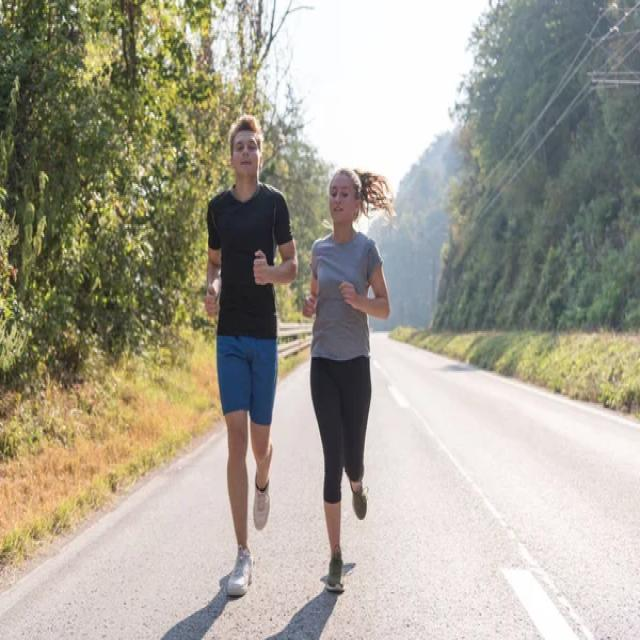Person: (206, 116, 300, 600), (301, 164, 390, 596)
